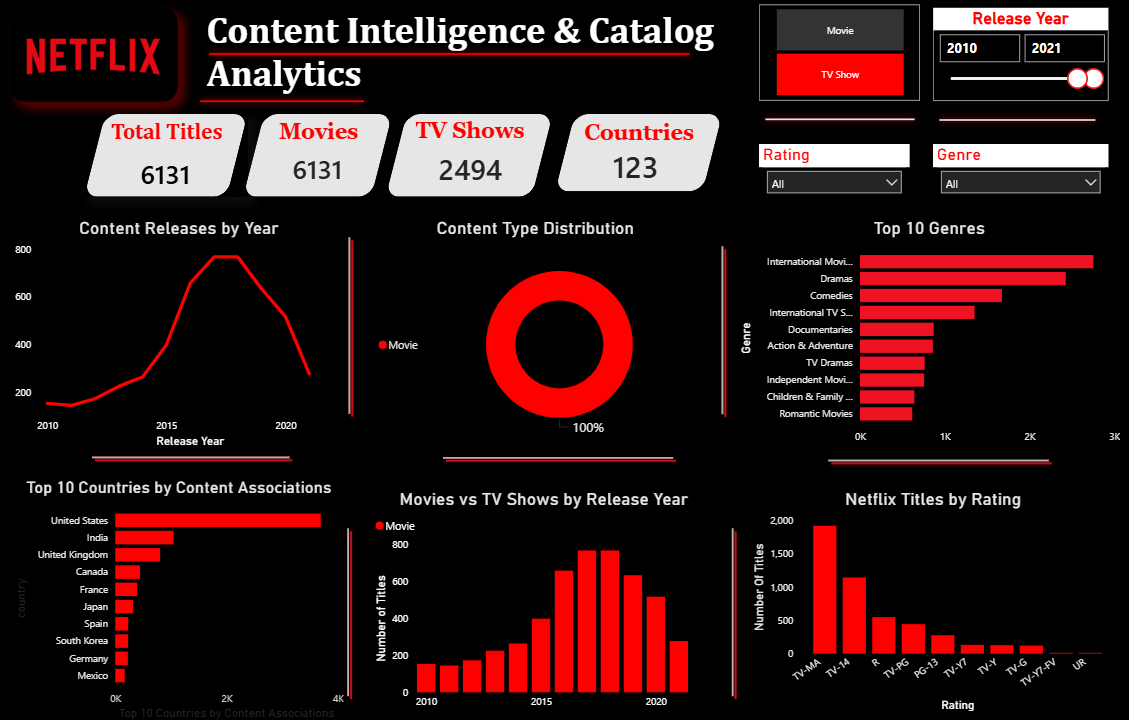

The dashboard page shown, as its layout file describes it:
{"tool":"powerbi","page":{"name":"Page 2","canvas":[1400,900],"ordinal":1},"visuals":[{"type":"donutChart","title":"Content Type Distribution","fields":{"Category":[" Netflix.type"],"Y":["CountNonNull( Netflix.show_id)"]},"box":[464,272,400,288],"z":0},{"type":"lineChart","title":"Content Releases by Year ","fields":{"Category":[" Netflix.release_year"],"Y":["CountNonNull( Netflix.show_id)"]},"box":[16,272,416,288],"z":1000},{"type":"clusteredBarChart","title":"Top 10 Countries by Content Associations","fields":{"Y":["CountNonNull(Country.country)"],"Category":["Country.country"]},"box":[16,592,416,304],"z":2000},{"type":"clusteredColumnChart","title":"Netflix Titles by Rating","fields":{"Category":[" Netflix.rating"],"Y":["CountNonNull( Netflix.show_id)"]},"box":[928.1,607,456.1,278.9],"z":3000},{"type":"columnChart","title":"Movies vs TV Shows by Release Year","fields":{"Category":[" Netflix.release_year"],"Y":["CountNonNull( Netflix.show_id)"],"Series":[" Netflix.type"]},"box":[461.4,607,428.1,280.7],"z":4000},{"type":"clusteredBarChart","title":"Top 10 Genres","fields":{"Category":["Genre.Genre"],"Y":["CountNonNull(Genre.Genre)"]},"box":[912,272,480,288],"z":5000},{"type":"image","box":[17.1,12.9,205.7,115.7],"z":6000},{"type":"textbox","title":"Content Intelligence & Catalog Analytics","box":[253.7,13,661.1,113],"z":7000},{"type":"shape","box":[106.7,144.4,202.2,102.2],"z":8000},{"type":"cardVisual","fields":{"Data":[" Netflix.Total Titles"]},"box":[153.3,195.6,108.9,40],"z":9000},{"type":"shape","box":[304.4,144.4,184.4,102.2],"z":10000},{"type":"shape","box":[480,144.4,206.7,102.2],"z":11000},{"type":"shape","box":[688.9,144.4,206.7,95.6],"z":12000},{"type":"cardVisual","fields":{"Data":[" Netflix.Movies"]},"box":[331.1,186.7,128.9,48.9],"z":13000},{"type":"cardVisual","fields":{"Data":[" Netflix.TV Shows"]},"box":[526.7,188.9,117.8,44.4],"z":14000},{"type":"cardVisual","fields":{"Data":[" Netflix.Total Country"]},"box":[730,185,118.3,45],"z":15000},{"type":"slicer","title":"Release Year","fields":{"Values":[" Netflix.release_year"]},"box":[1155.4,13.8,216.9,115.4],"z":16000},{"type":"slicer","title":"Rating","fields":{"Values":[" Netflix.rating"]},"box":[940,181.5,186.2,73.8],"z":17000},{"type":"slicer","title":"Genre","fields":{"Values":["Genre.Genre"]},"box":[1155.4,181.5,216.9,64.6],"z":18000},{"type":"shape","box":[253.7,55.6,609.3,29.6],"z":19000},{"type":"shape","box":[940,135,200,31.7],"z":20000},{"type":"shape","box":[1155,135,208.3,33.3],"z":21000},{"type":"shape","box":[242.6,113,218.5,31.5],"z":22000},{"type":"shape","box":[112,544,256,48],"z":23000},{"type":"shape","box":[415.8,291.2,36.8,229.8],"z":24000},{"type":"shape","box":[884.2,301.8,24.6,219.3],"z":25000},{"type":"shape","box":[421.1,650.9,26.3,219.3],"z":26000},{"type":"shape","box":[889.5,650.9,38.6,219.3],"z":27000},{"type":"shape","box":[543.9,542.1,296.5,52.6],"z":28000},{"type":"shape","box":[1021.1,556.1,284.2,33.3],"z":29000},{"type":"slicer","fields":{"Values":[" Netflix.type"]},"box":[940,10,198.3,118.3],"z":30000}]}

Visuals, with their boxes in screenshot pixels (x1, y1, x2, y2), scaled from the page's 1400x900 canvas onto the 1129x720 screenshot:
"Content Type Distribution" donutChart: x1=374, y1=218, x2=697, y2=448
"Content Releases by Year " lineChart: x1=13, y1=218, x2=348, y2=448
"Top 10 Countries by Content Associations" clusteredBarChart: x1=13, y1=474, x2=348, y2=717
"Netflix Titles by Rating" clusteredColumnChart: x1=748, y1=486, x2=1116, y2=709
"Movies vs TV Shows by Release Year" columnChart: x1=372, y1=486, x2=717, y2=710
"Top 10 Genres" clusteredBarChart: x1=735, y1=218, x2=1123, y2=448
image: x1=14, y1=10, x2=180, y2=103
"Content Intelligence & Catalog Analytics" textbox: x1=205, y1=10, x2=738, y2=101
shape: x1=86, y1=116, x2=249, y2=197
cardVisual -  Netflix.Total Titles: x1=124, y1=156, x2=211, y2=188
shape: x1=245, y1=116, x2=394, y2=197
shape: x1=387, y1=116, x2=554, y2=197
shape: x1=556, y1=116, x2=722, y2=192
cardVisual -  Netflix.Movies: x1=267, y1=149, x2=371, y2=188
cardVisual -  Netflix.TV Shows: x1=425, y1=151, x2=520, y2=187
cardVisual -  Netflix.Total Country: x1=589, y1=148, x2=684, y2=184
"Release Year" slicer: x1=932, y1=11, x2=1107, y2=103
"Rating" slicer: x1=758, y1=145, x2=908, y2=204
"Genre" slicer: x1=932, y1=145, x2=1107, y2=197
shape: x1=205, y1=44, x2=696, y2=68
shape: x1=758, y1=108, x2=919, y2=133
shape: x1=931, y1=108, x2=1099, y2=135
shape: x1=196, y1=90, x2=372, y2=116
shape: x1=90, y1=435, x2=297, y2=474
shape: x1=335, y1=233, x2=365, y2=417
shape: x1=713, y1=241, x2=733, y2=417
shape: x1=340, y1=521, x2=361, y2=696
shape: x1=717, y1=521, x2=748, y2=696
shape: x1=439, y1=434, x2=678, y2=476
shape: x1=823, y1=445, x2=1053, y2=472
slicer -  Netflix.type: x1=758, y1=8, x2=918, y2=103
